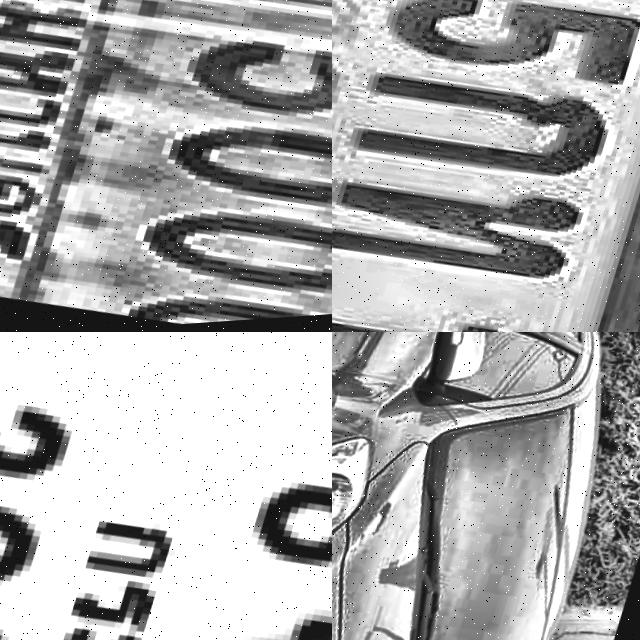license-plate: (0, 0, 332, 332), (332, 0, 640, 332), (0, 332, 332, 640)
